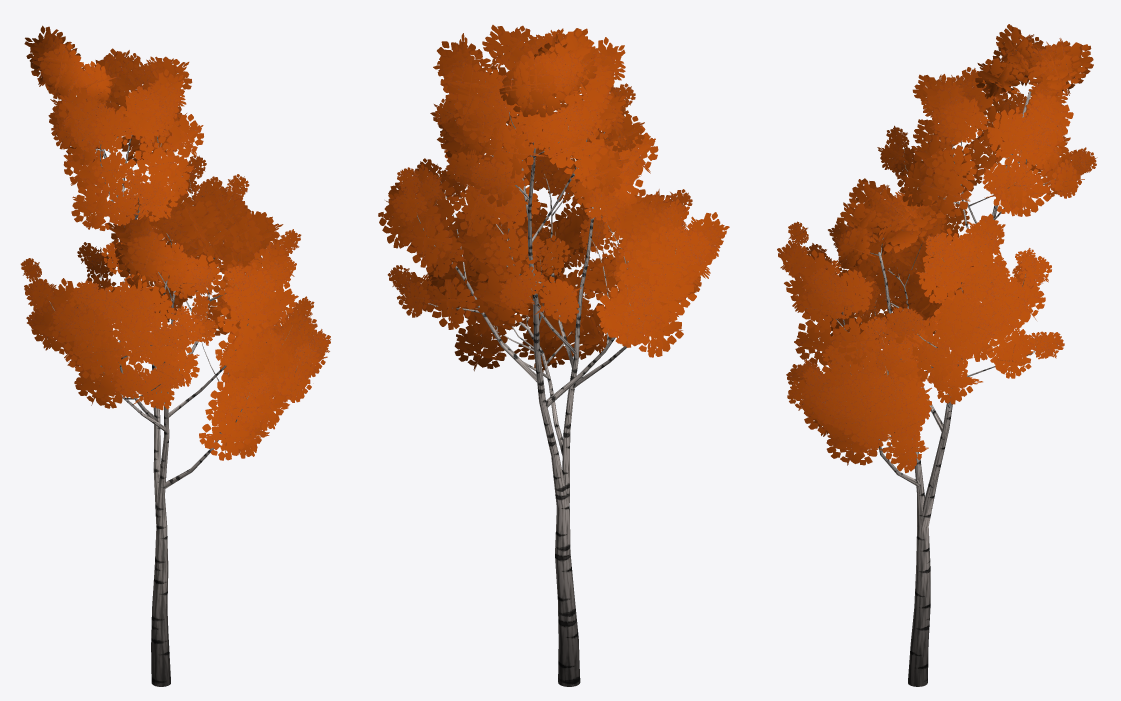
The model's file is tree-health-1-sapling.glb.
The picture shows the model from 3 angles, left to right: view 1: azimuth 30°, elevation 25°; view 2: azimuth 150°, elevation 25°; view 3: azimuth 270°, elevation 25°; orthographic projection. The views are drawn at different scales.
Visible parts, largest first — view 1: Birch_1; view 2: Birch_1; view 3: Birch_1.
Boxes of the visible parts, box(x1,y1,x2,y2) form: Birch_1: box(20, 25, 330, 686); Birch_1: box(378, 25, 729, 686); Birch_1: box(777, 24, 1097, 686).
Bounding box in the file's own units: 0.3047 × 0.65 × 0.3099.
Materials: 2 (2 with a texture image).
